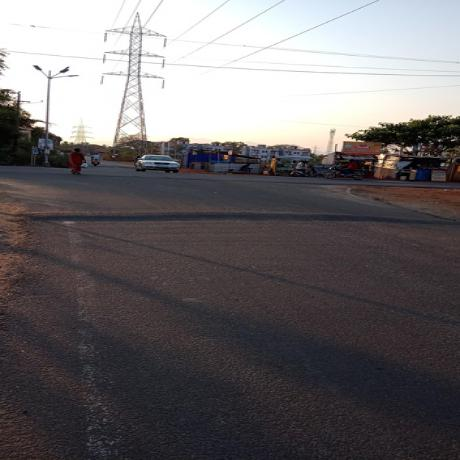Speed Bump: (21, 208, 459, 224)
